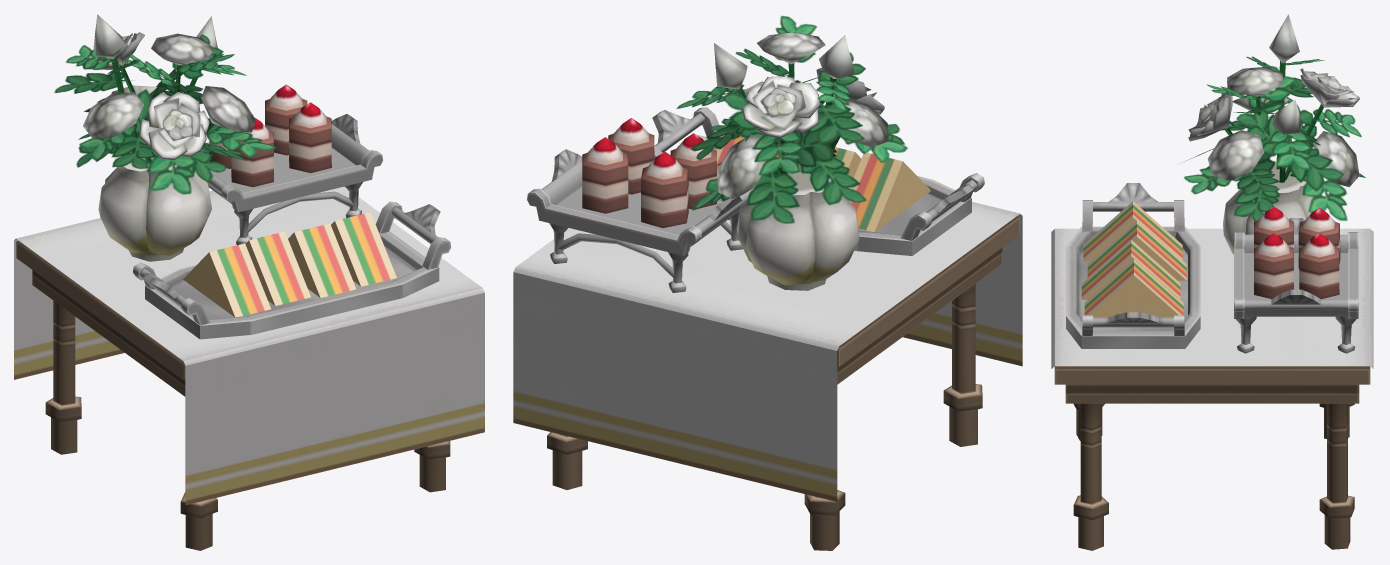
File: my_teaparty_01_table_08.glb
3 views of the same model, side by side, from view 1: azimuth 30°, elevation 25°; view 2: azimuth 150°, elevation 25°; view 3: azimuth 270°, elevation 25° (orthographic). The views are drawn at different scales.
Visible parts, largest first — view 1: my_teaparty_01_table_08; view 2: my_teaparty_01_table_08; view 3: my_teaparty_01_table_08.
Boxes of the visible parts, x1=… form: my_teaparty_01_table_08: x1=14, y1=14, x2=484, y2=550; my_teaparty_01_table_08: x1=513, y1=16, x2=1022, y2=550; my_teaparty_01_table_08: x1=1051, y1=14, x2=1373, y2=550.
Size of the model in its own units: 0.006 by 0.00865 by 0.00598.
Materials: 2 (2 with a texture image).
